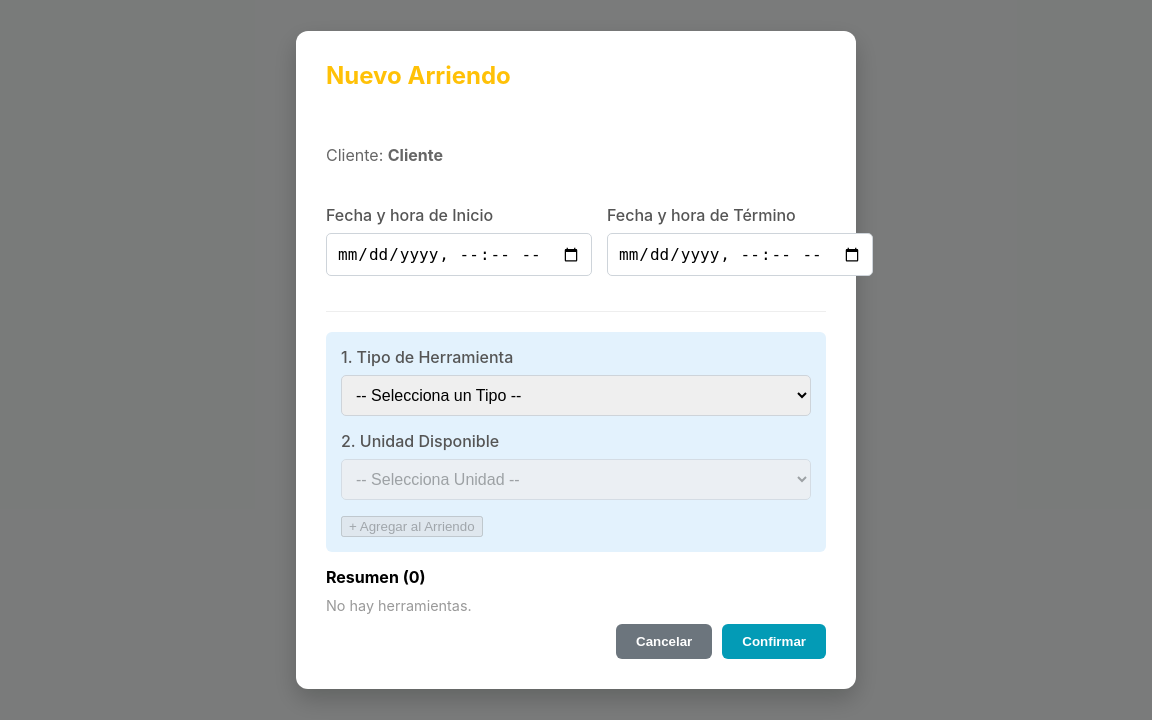
NewRentalModal - Enhanced Coverage › Uncovered Line: removeFromCart logic › should filter out the removed tool by toolId
Select "Taladro (Herramientas de Poder)" in the dropdown showing "-- Selecciona un Tipo --" below "1. Tipo de Herramienta" at {"x": 576, "y": 396}, box [341,376,811,416]
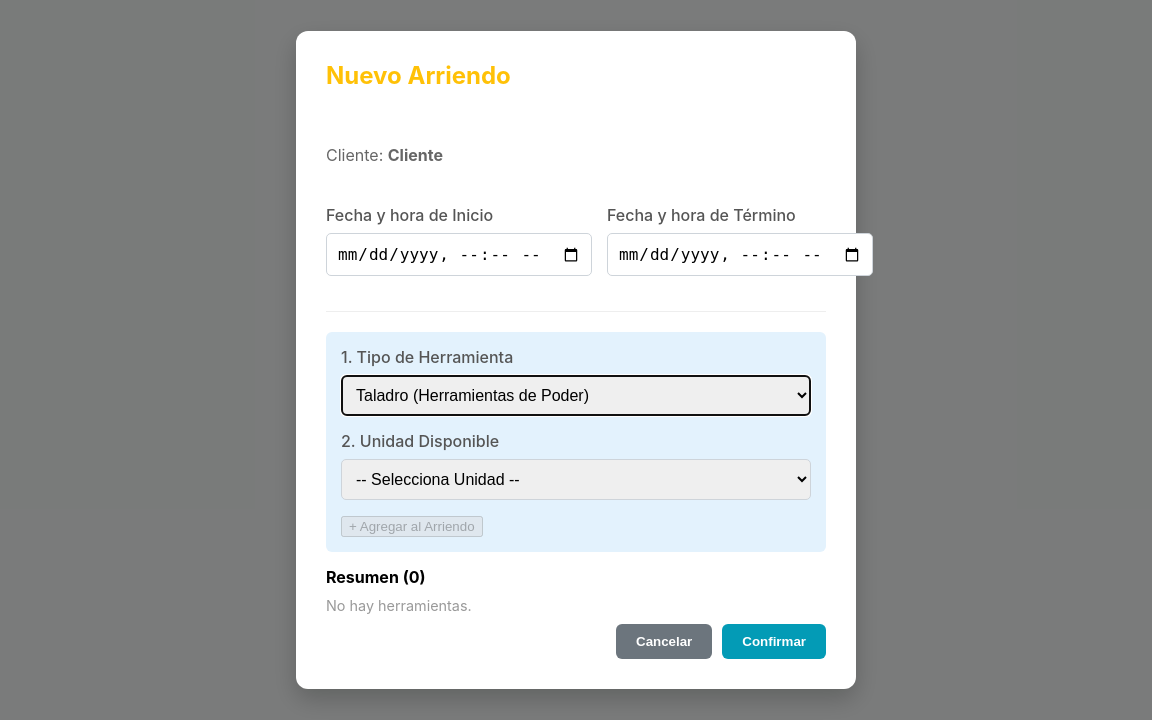
Select "T001 - Disponible" in the dropdown showing "-- Selecciona Unidad --" below "2. Unidad Disponible" at {"x": 576, "y": 480}, box [341,460,811,500]
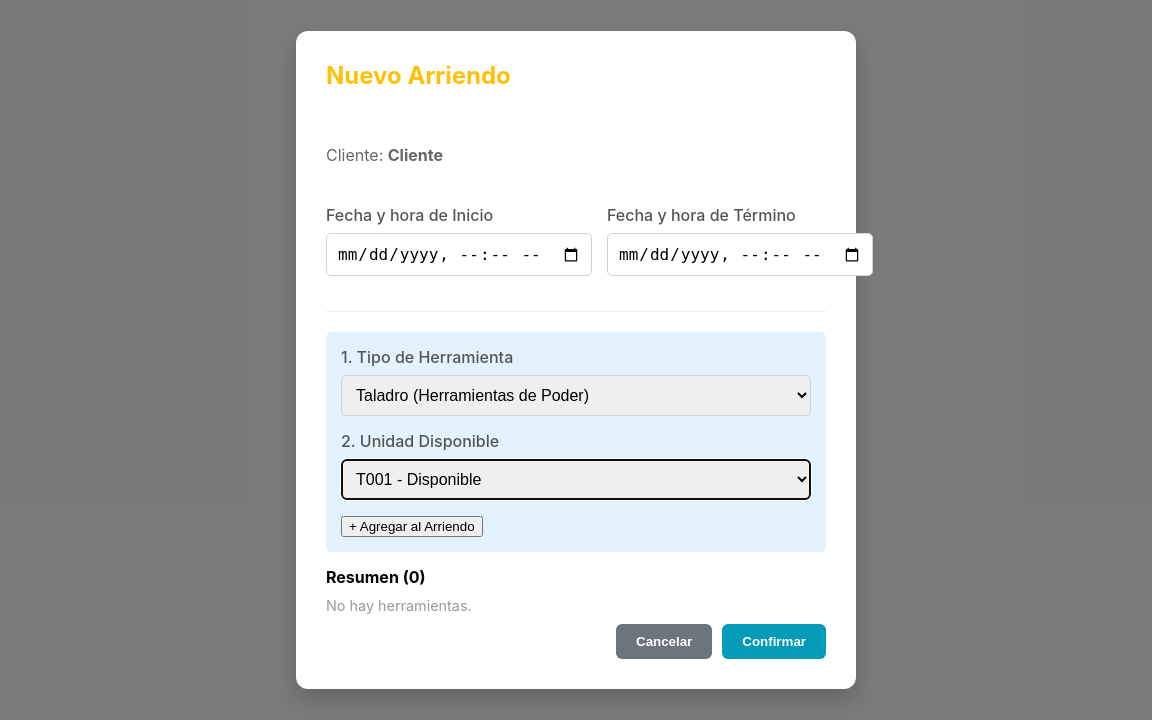
Click the button "+ Agregar al Arriendo" at {"x": 412, "y": 527}, box [341,516,483,538]
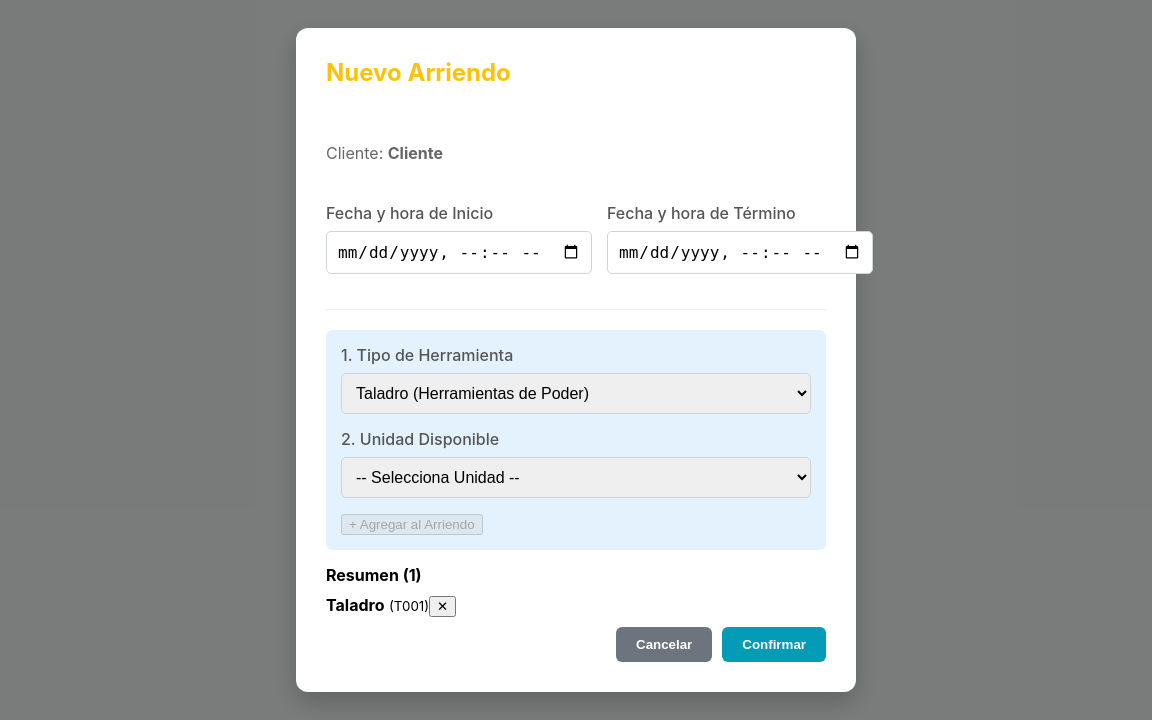
Result: the text "Resumen (1)" is shown at [326,565,422,585]
// Remove the tool
Click the button "✕" at {"x": 443, "y": 606}, box [429,596,456,617]
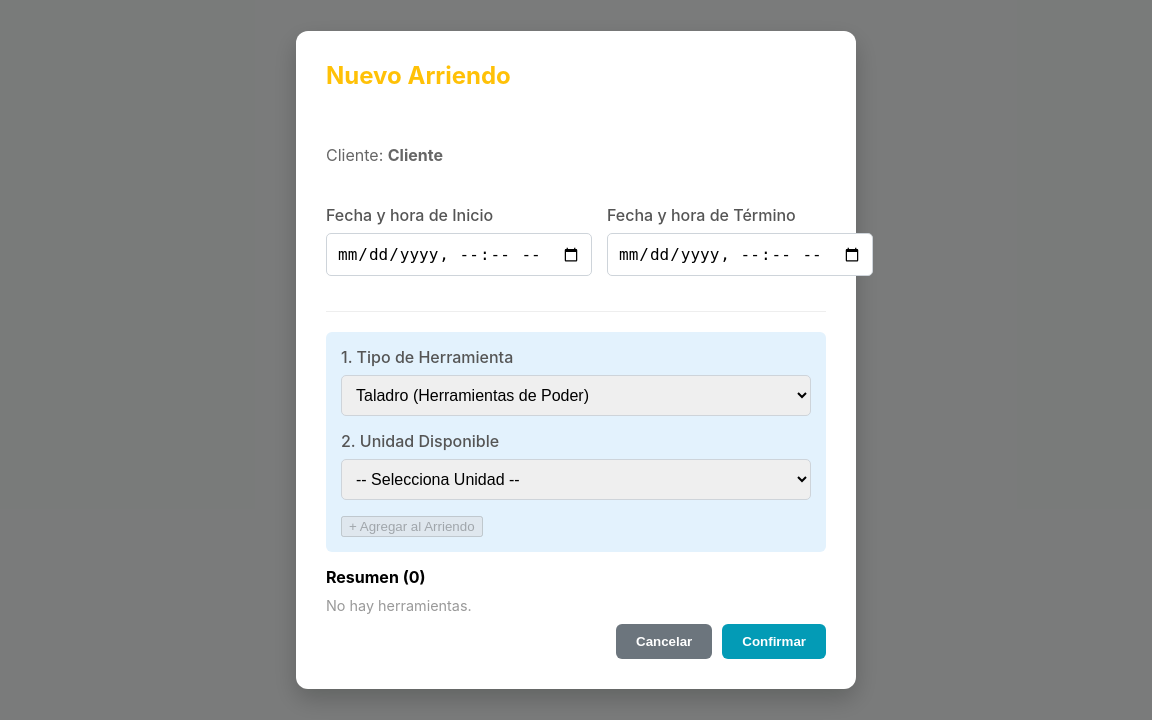
Result: the text "Resumen (0)" is shown at [326,568,426,588]
